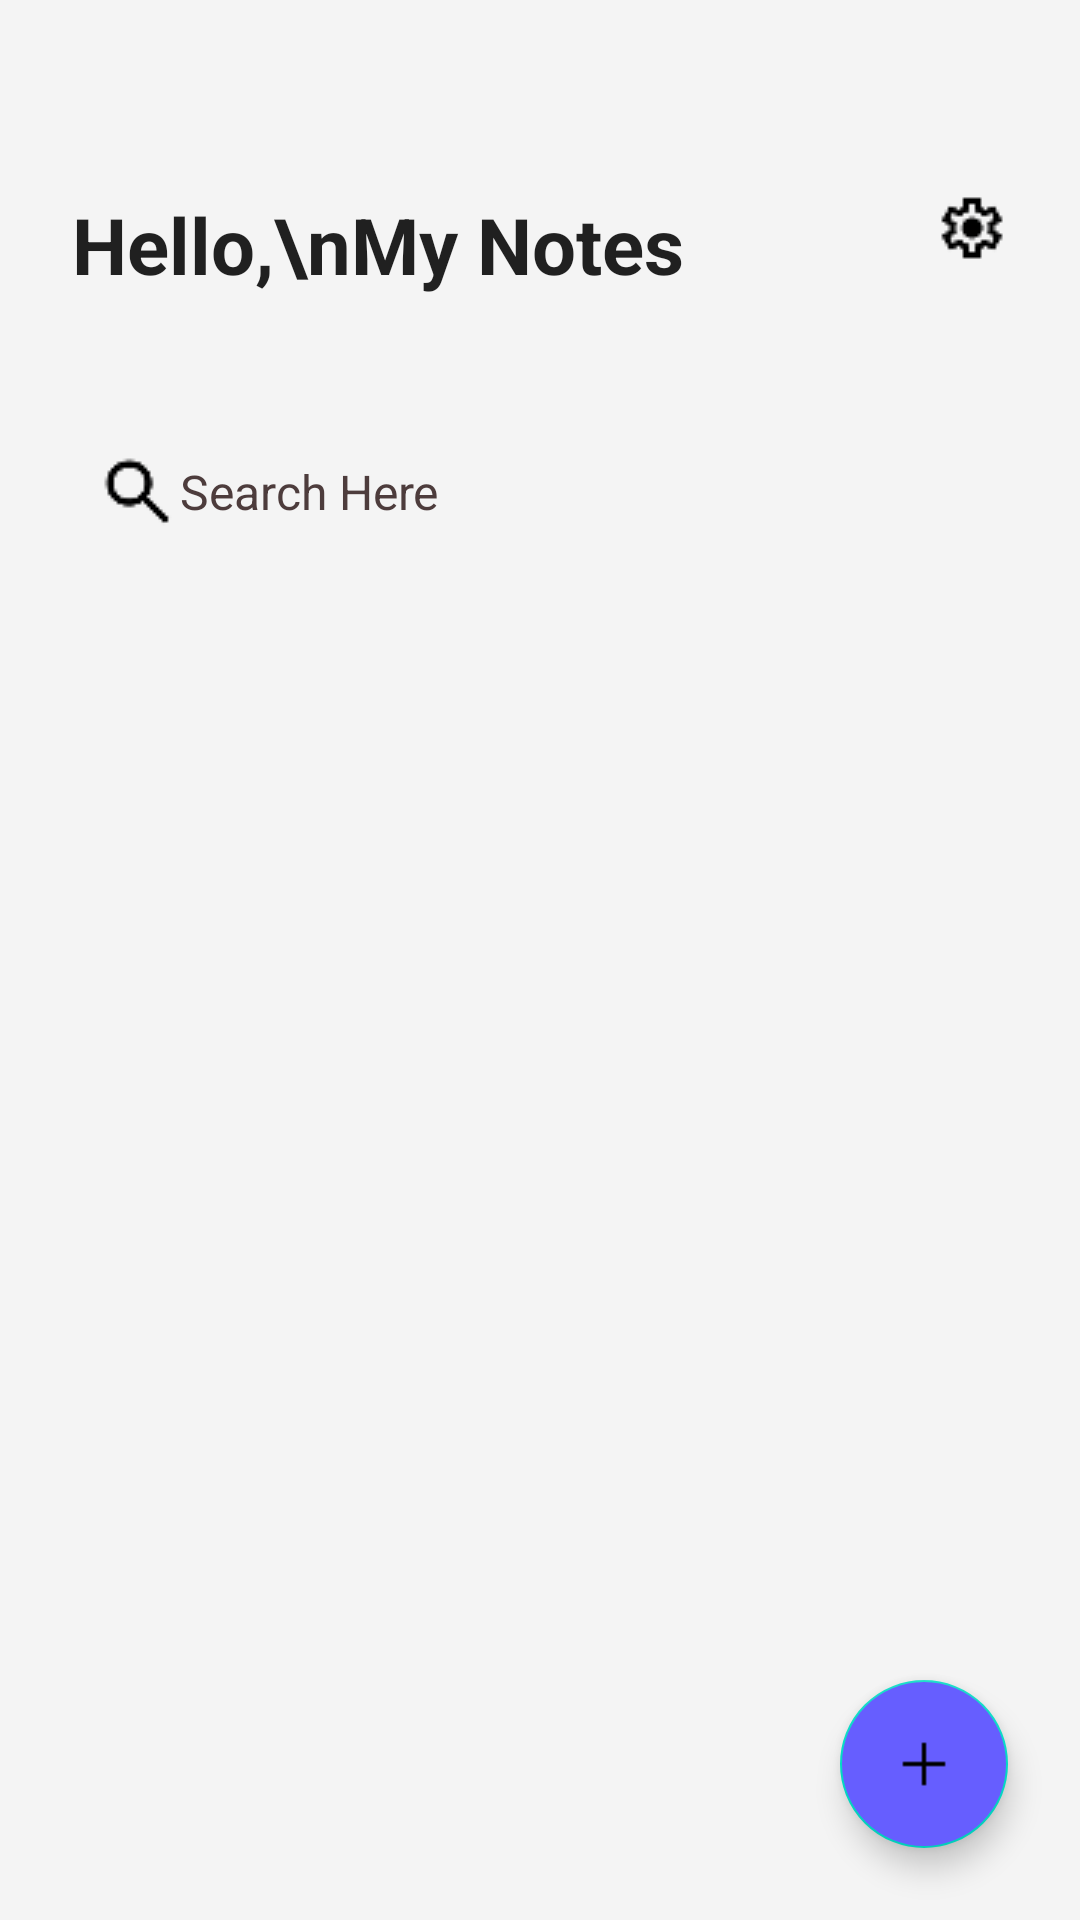

Named icons in this screenshot (1080px x 1920px) and their centers, point (x, y):
Add Note: point (924, 1764)
